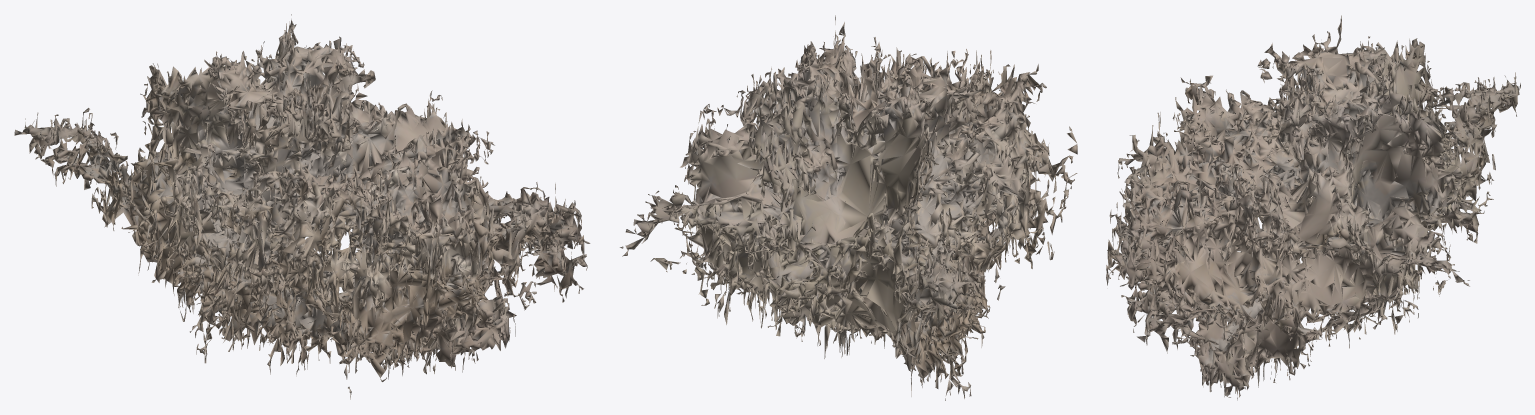
The model's file is dust_0707023453_texture.fbx.
3 views of the same model, side by side, from view 1: azimuth 30°, elevation 25°; view 2: azimuth 150°, elevation 25°; view 3: azimuth 270°, elevation 25° (orthographic). The views are drawn at different scales.
Visible parts, largest first — view 1: Mesh1; view 2: Mesh1; view 3: Mesh1.
Boxes of the visible parts, <box> form: Mesh1: <box>14,14,590,399</box>; Mesh1: <box>620,15,1077,400</box>; Mesh1: <box>1106,15,1520,400</box>.
Bounding box in the file's own units: 153 × 125 × 151.
Materials: 1 (1 with a texture image).
